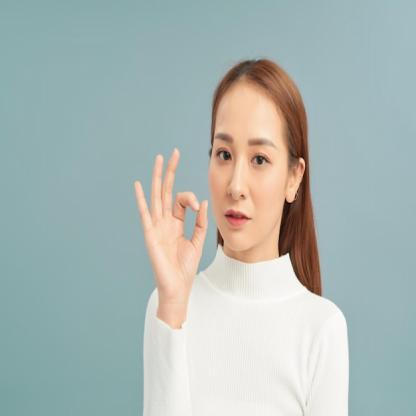ok: (134, 145, 211, 301)
